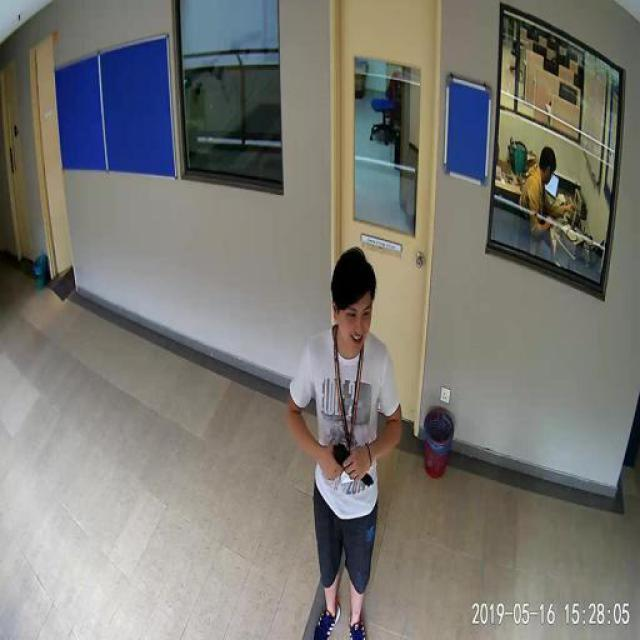weapon: (321, 442, 376, 491)
